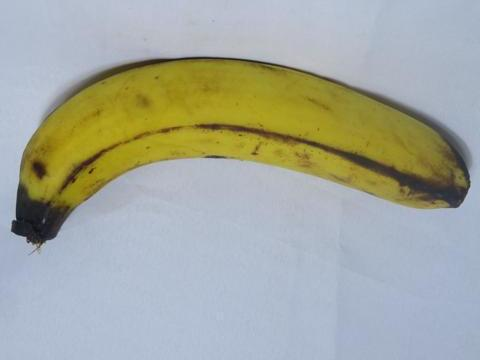ripe: (6, 51, 478, 274)
